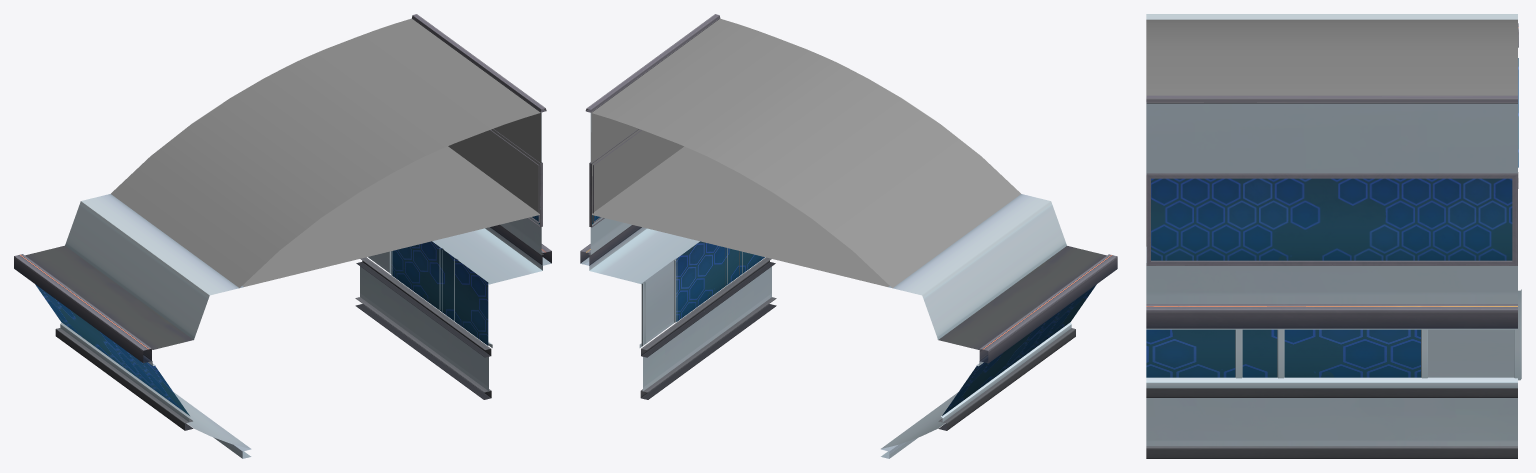
Rendered from mesh_1002_props04.FBX.
3 views of the same model, side by side, from view 1: azimuth 30°, elevation 25°; view 2: azimuth 150°, elevation 25°; view 3: azimuth 270°, elevation 25° (orthographic). The views are drawn at different scales.
Parts seen in each view (by area): view 1: mesh_1002_props4d, mesh_1002_props04a, mesh_1002_props02f001, mesh_1002_props04c, mesh_1002_props04b; view 2: mesh_1002_props4d, mesh_1002_props04a, mesh_1002_props02f001, mesh_1002_props04b, mesh_1002_props04c; view 3: mesh_1002_props04a, mesh_1002_props04c, mesh_1002_props4d, mesh_1002_props04b.
Part boxes in pixels (left/top/right/bottom): mesh_1002_props4d: left=111, top=18, right=540, bottom=287; mesh_1002_props04a: left=25, top=112, right=551, bottom=458; mesh_1002_props02f001: left=242, top=113, right=540, bottom=286; mesh_1002_props04c: left=35, top=14, right=546, bottom=415; mesh_1002_props04b: left=14, top=224, right=551, bottom=430; mesh_1002_props4d: left=591, top=18, right=1020, bottom=287; mesh_1002_props04a: left=580, top=113, right=1106, bottom=458; mesh_1002_props02f001: left=591, top=113, right=889, bottom=286; mesh_1002_props04b: left=580, top=225, right=1117, bottom=430; mesh_1002_props04c: left=585, top=14, right=1096, bottom=415; mesh_1002_props04a: left=1146, top=14, right=1521, bottom=446; mesh_1002_props04c: left=1146, top=58, right=1518, bottom=377; mesh_1002_props4d: left=1146, top=19, right=1517, bottom=96; mesh_1002_props04b: left=1146, top=23, right=1518, bottom=458.
Size of the model in its own units: 2520 by 1631 by 1391.
